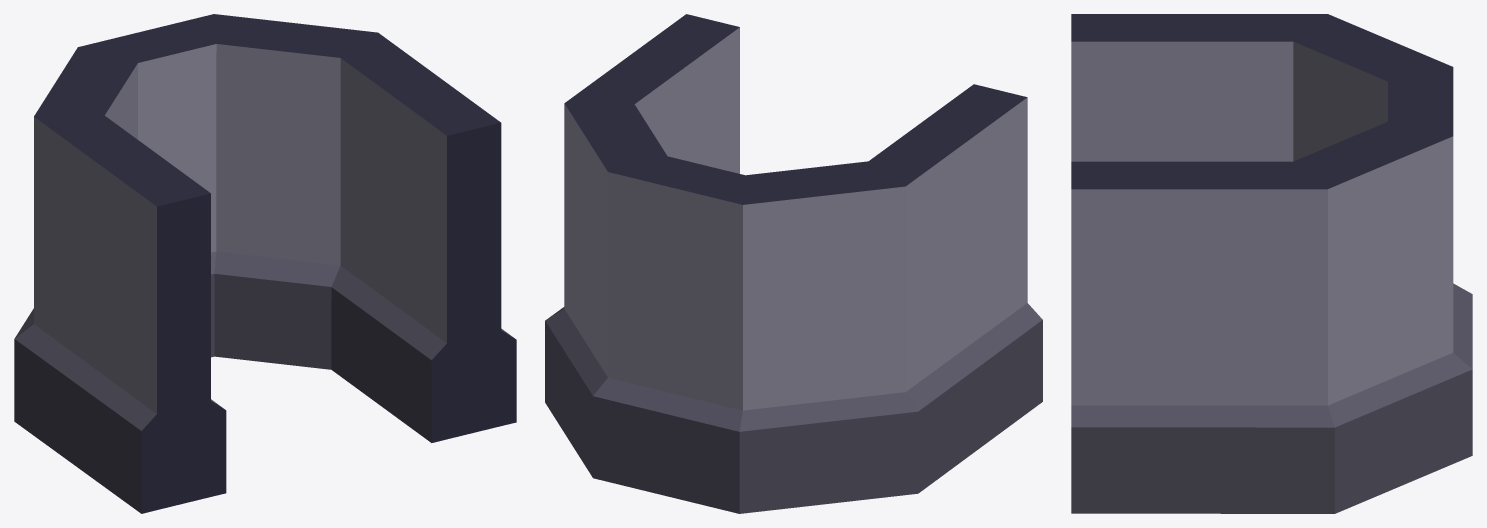
File: WallUshape.fbx
The picture shows the model from 3 angles, left to right: view 1: azimuth 30°, elevation 25°; view 2: azimuth 150°, elevation 25°; view 3: azimuth 270°, elevation 25°; orthographic projection. The views are drawn at different scales.
Visible parts, largest first — view 1: WallUshape; view 2: WallUshape; view 3: WallUshape.
Part boxes in pixels (bbox=[...]): WallUshape: bbox=[14, 14, 516, 513]; WallUshape: bbox=[545, 14, 1042, 513]; WallUshape: bbox=[1071, 14, 1472, 513].
Bounding box in the file's own units: 130 × 100 × 115.
